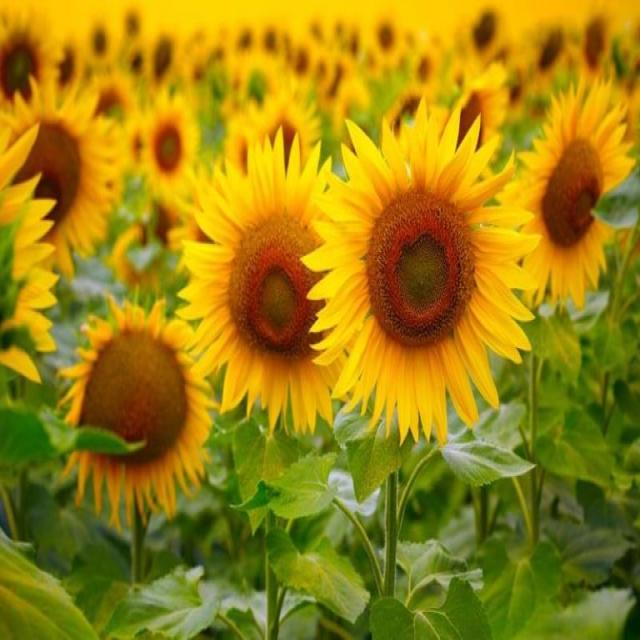sunflower: (303, 96, 524, 460), (170, 125, 367, 460), (59, 296, 216, 528), (499, 77, 633, 311), (0, 78, 124, 274), (140, 92, 198, 200)
